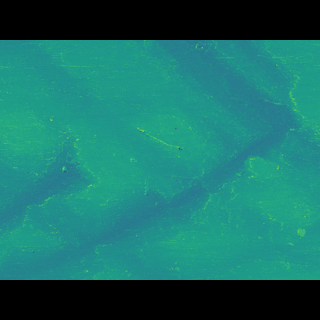Loch: (101, 132, 290, 219), (131, 70, 320, 151), (0, 100, 93, 220)
